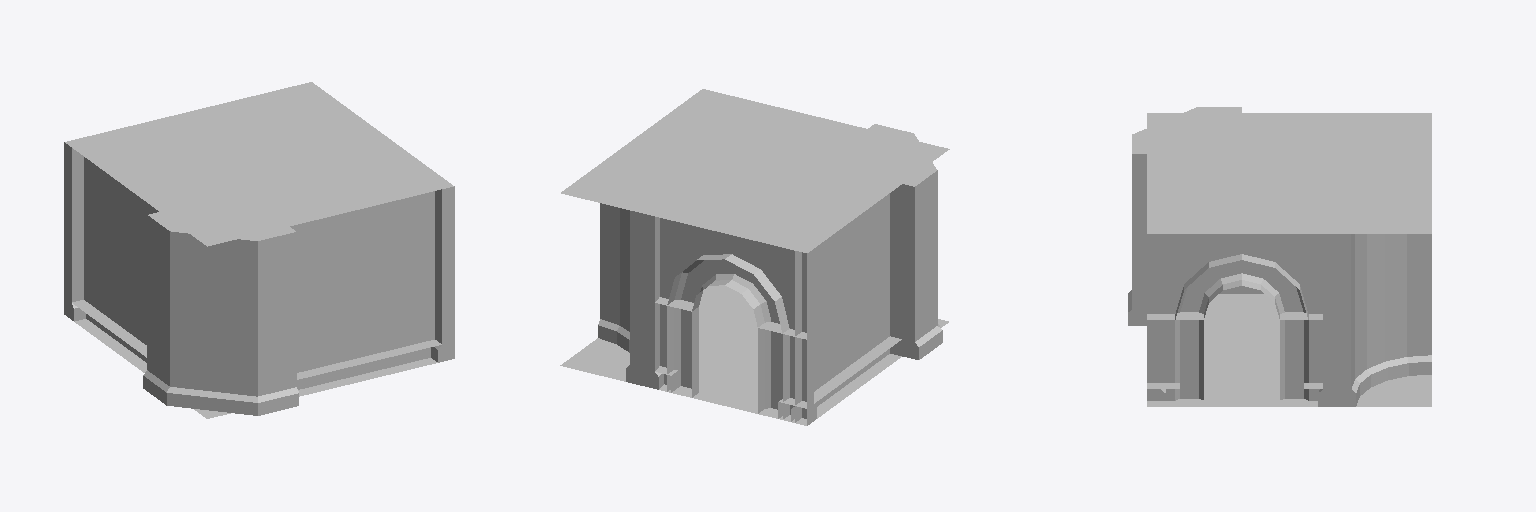
Rendered from corner.obj.
3 renders of one model, left to right at view 1: azimuth 30°, elevation 25°; view 2: azimuth 150°, elevation 25°; view 3: azimuth 270°, elevation 25°, orthographic.
Visible parts, largest first — view 1: struct_ceiling_10, struct_wall_tapered_main_16, struct_wall_main_half_17, struct_wall_main_half_18, struct_wall_tapered_base_22, struct_wall_big_door_upper_13, struct_wall_big_door_upper_11, struct_wall_base_half_19, struct_wall_big_door_lower_4, struct_wall_base_half_20, struct_wall_big_door_lower_12, struct_wall_curved_main_15; view 2: struct_ceiling_10, struct_wall_main_half_18, struct_wall_big_door_upper_13, struct_floor_main_half_0, struct_wall_curved_main_15, struct_wall_tapered_main_16, struct_wall_big_door_lower_12, struct_wall_base_half_20, struct_wall_curved_base_21, struct_wall_tapered_base_22, struct_wall_big_door_base_half_11; view 3: struct_ceiling_10, struct_wall_curved_main_15, struct_wall_big_door_upper_11, struct_floor_main_half_0, struct_wall_big_door_lower_4, struct_wall_tapered_main_16, struct_wall_curved_base_21.
Part boxes in pixels (bbox=[...]): struct_ceiling_10: bbox=[66, 82, 451, 246]; struct_wall_tapered_main_16: bbox=[147, 209, 296, 396]; struct_wall_main_half_17: bbox=[290, 191, 434, 389]; struct_wall_main_half_18: bbox=[84, 157, 158, 362]; struct_wall_tapered_base_22: bbox=[143, 370, 298, 415]; struct_wall_big_door_upper_13: bbox=[64, 102, 234, 233]; struct_wall_big_door_upper_11: bbox=[348, 117, 454, 275]; struct_wall_base_half_19: bbox=[297, 340, 441, 396]; struct_wall_big_door_lower_4: bbox=[435, 271, 454, 361]; struct_wall_base_half_20: bbox=[72, 300, 146, 372]; struct_wall_big_door_lower_12: bbox=[64, 228, 83, 303]; struct_wall_curved_main_15: bbox=[226, 101, 359, 127]; struct_ceiling_10: bbox=[561, 89, 949, 252]; struct_wall_main_half_18: bbox=[795, 193, 889, 422]; struct_wall_big_door_upper_13: bbox=[643, 208, 813, 339]; struct_floor_main_half_0: bbox=[560, 285, 948, 425]; struct_wall_curved_main_15: bbox=[600, 161, 665, 388]; struct_wall_tapered_main_16: bbox=[868, 124, 937, 358]; struct_wall_big_door_lower_12: bbox=[659, 297, 813, 424]; struct_wall_base_half_20: bbox=[791, 336, 901, 421]; struct_wall_curved_base_21: bbox=[598, 319, 663, 389]; struct_wall_tapered_base_22: bbox=[908, 324, 942, 359]; struct_wall_big_door_base_half_11: bbox=[655, 366, 816, 425]; struct_ceiling_10: bbox=[1147, 113, 1431, 233]; struct_wall_curved_main_15: bbox=[1323, 188, 1431, 406]; struct_wall_big_door_upper_11: bbox=[1147, 228, 1336, 319]; struct_floor_main_half_0: bbox=[1147, 294, 1431, 406]; struct_wall_big_door_lower_4: bbox=[1147, 312, 1322, 406]; struct_wall_tapered_main_16: bbox=[1132, 107, 1241, 325]; struct_wall_curved_base_21: bbox=[1318, 355, 1431, 406].
Bounding box in the file's own units: 3.2 × 2 × 3.2.